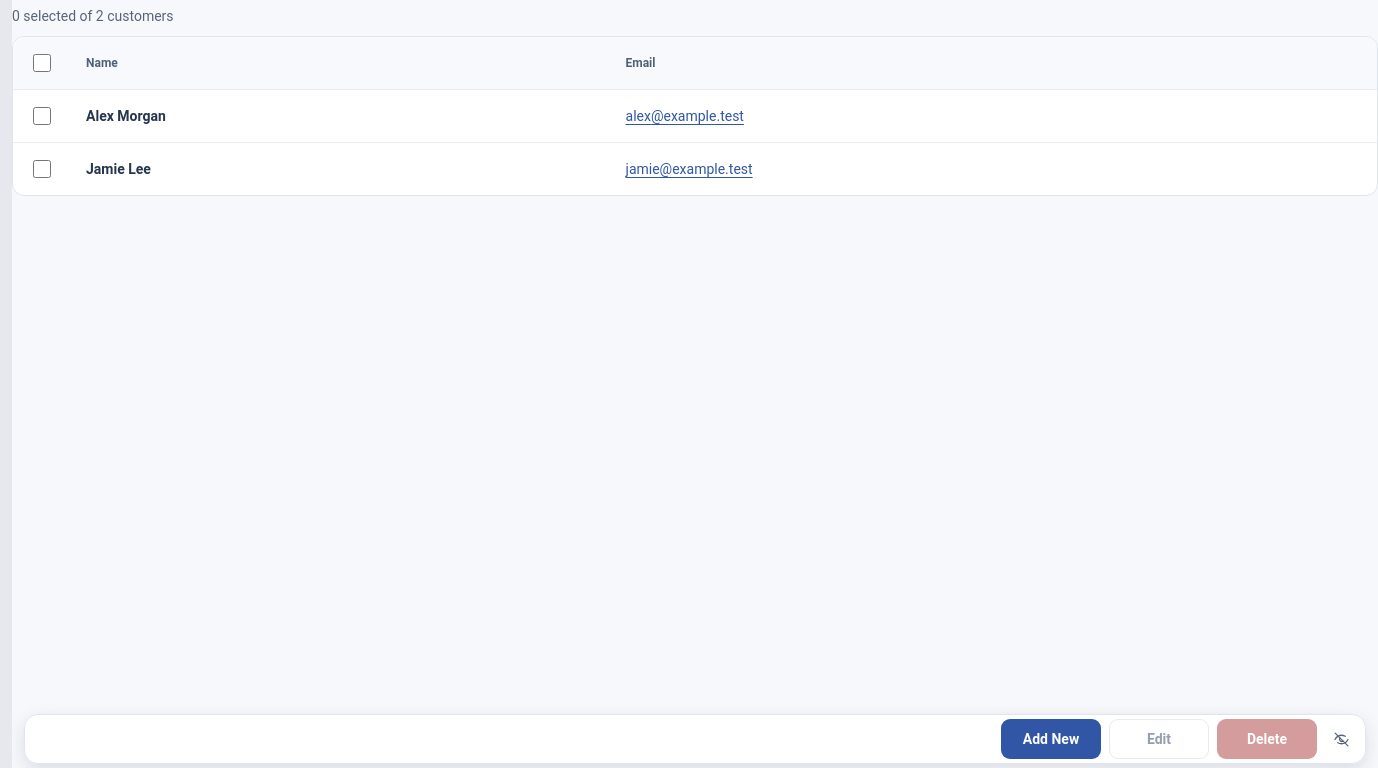
it: CustomersComponent › explains stale IDs after an atomic delete fails without removing rows
Click the checkbox named "Select Alex Morgan" at {"x": 42, "y": 116}, box [33,107,51,125]
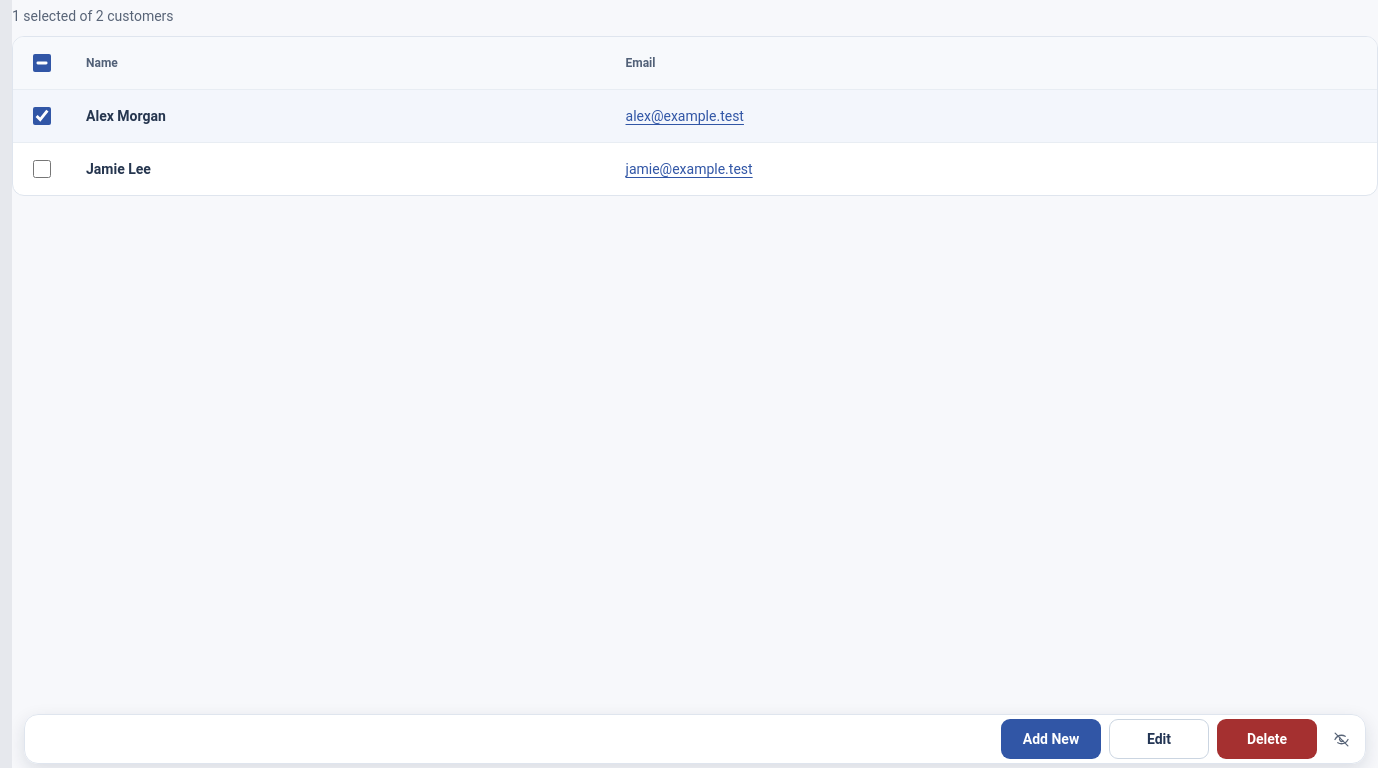
Click the button with class "danger" at {"x": 1267, "y": 739}, box [1217,719,1317,759]
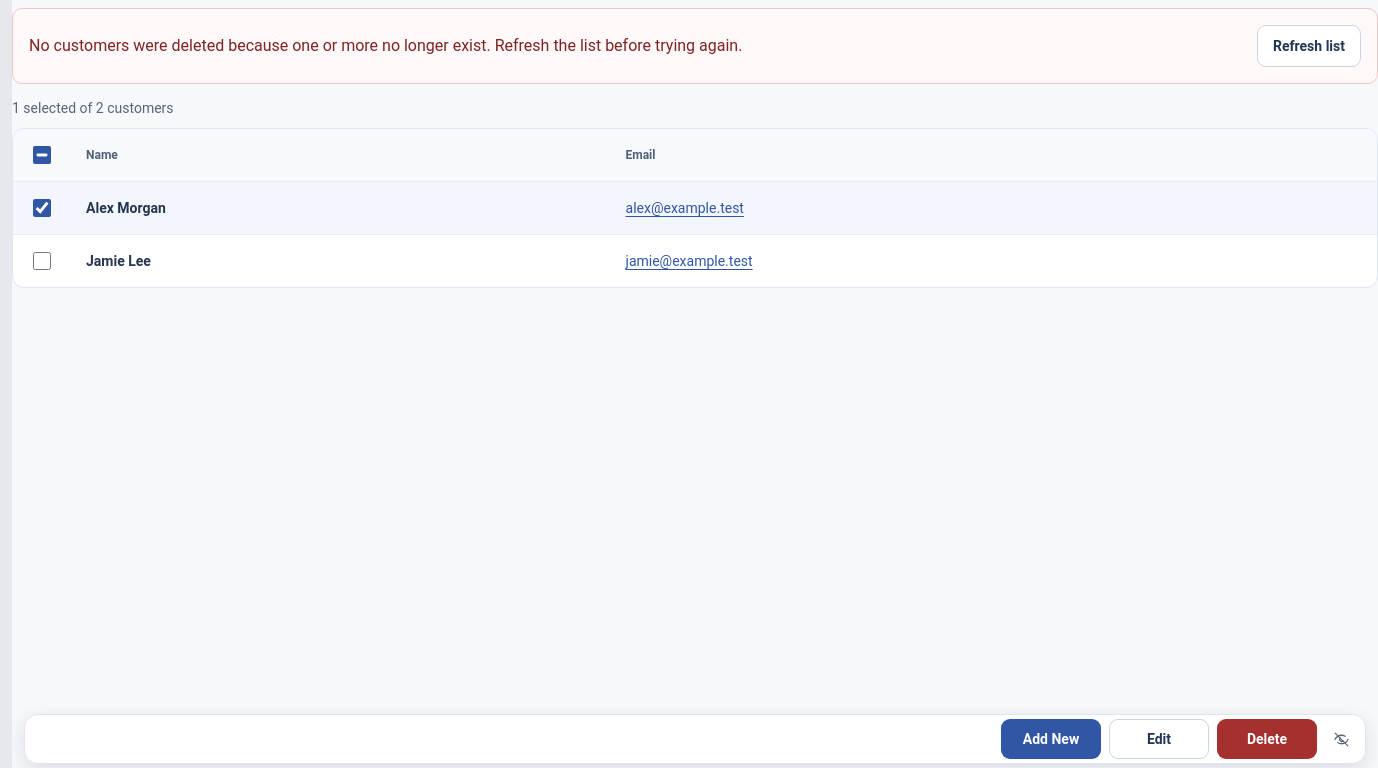
Expected: the text "Alex Morgan" is shown, [70,182,610,234]
Now the text "No customers were deleted" is shown, box [29,36,742,55]
Now the text "Refresh list" is shown, box [1257,25,1361,67]
